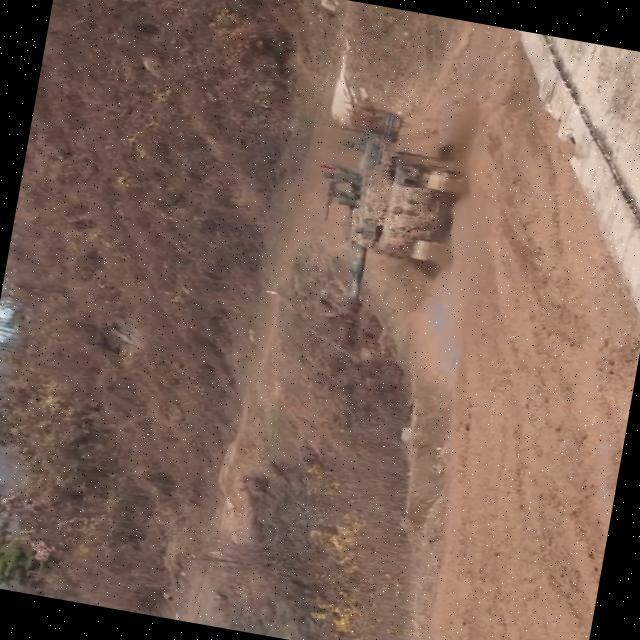korea tank: (292, 96, 478, 368)
